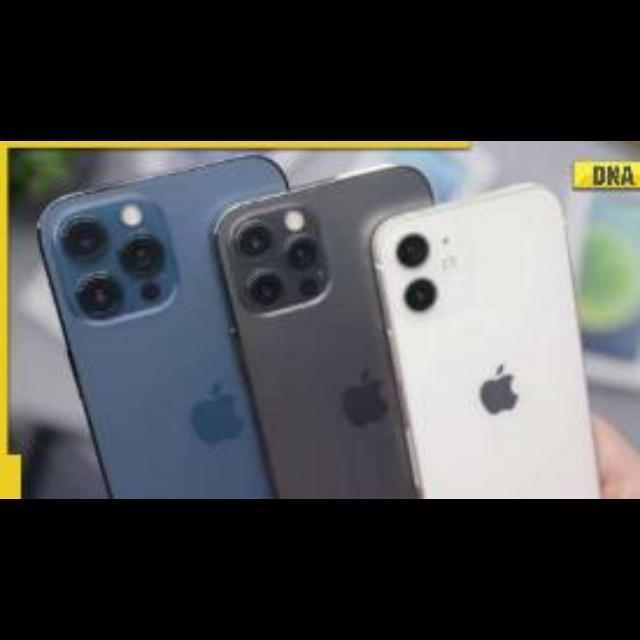phone: (0, 100, 547, 519)
